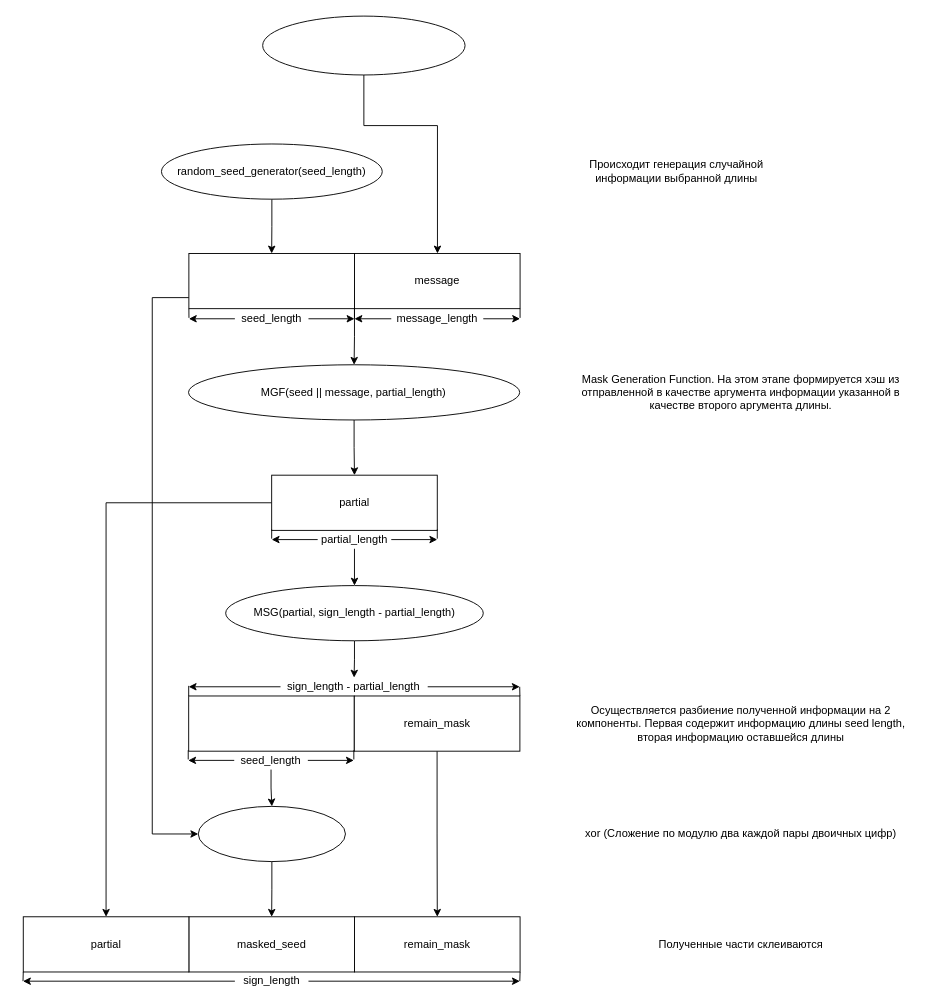
Some shapes in this 931 by 1006 pixel diagram are drawn without their labels. Each missing label, with the centre of its shape:
"PSS_sign(message, sign_length)" goes at [363,45].
"seed" goes at [271,281].
"seed ⊕ seed_mask" goes at [271,833].
"seed_mask" goes at [271,723].
